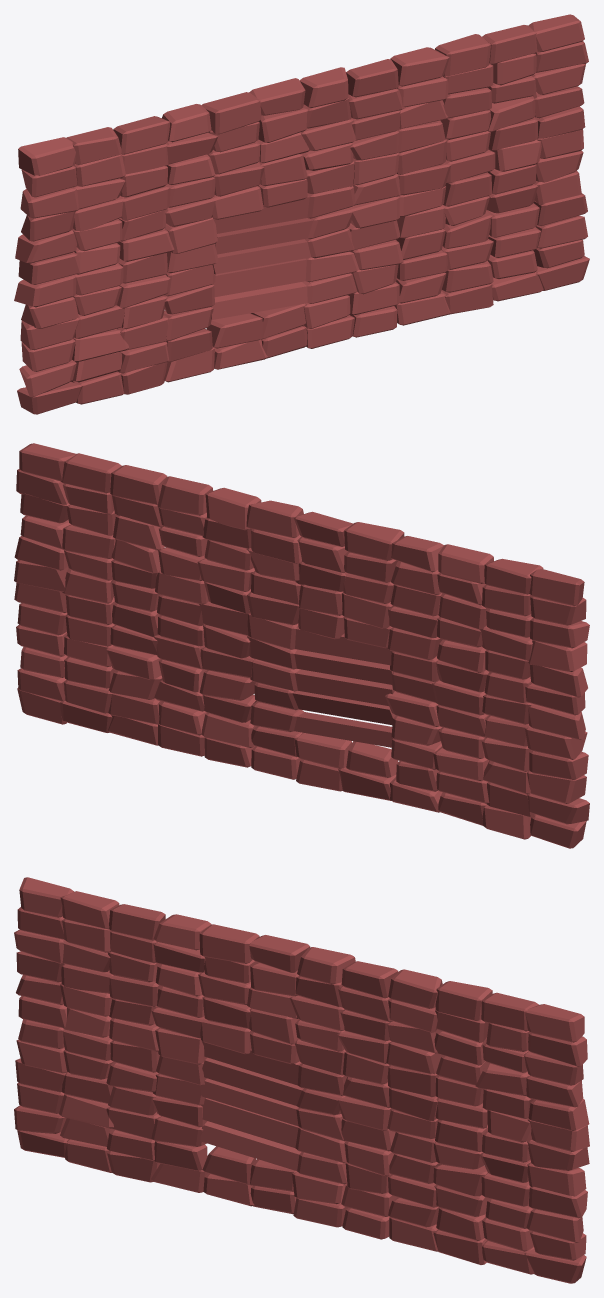
Rendered from MeatWall.gltf.
The picture shows the model from 3 angles, top to bottom: view 1: azimuth 30°, elevation 25°; view 2: azimuth 150°, elevation 25°; view 3: azimuth 330°, elevation 25°; orthographic projection.
Parts seen in each view (by area): view 1: Wall.001; view 2: Wall.001; view 3: Wall.001.
Boxes of the visible parts, bbox=[...] form: Wall.001: bbox=[14, 14, 589, 414]; Wall.001: bbox=[14, 443, 589, 848]; Wall.001: bbox=[14, 877, 589, 1283].
Size of the model in its own units: 6.26 by 2.82 by 0.3098.
